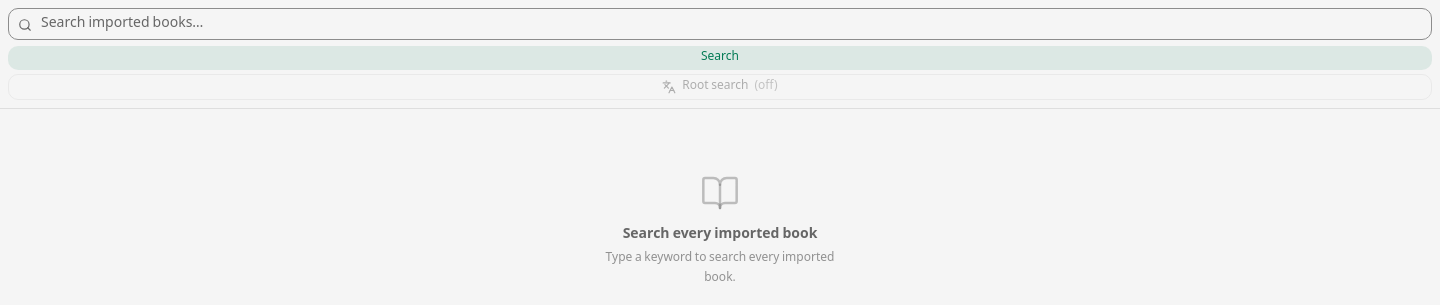
Test: SearchTab — on plain web (no window.electronAPI at all) › root search stays a no-op (empty results), never a crash, with no native S2.db
Step 1. Type "كتب" into the field with placeholder "Search imported books…" → (720, 24), box [8,8,1432,40]
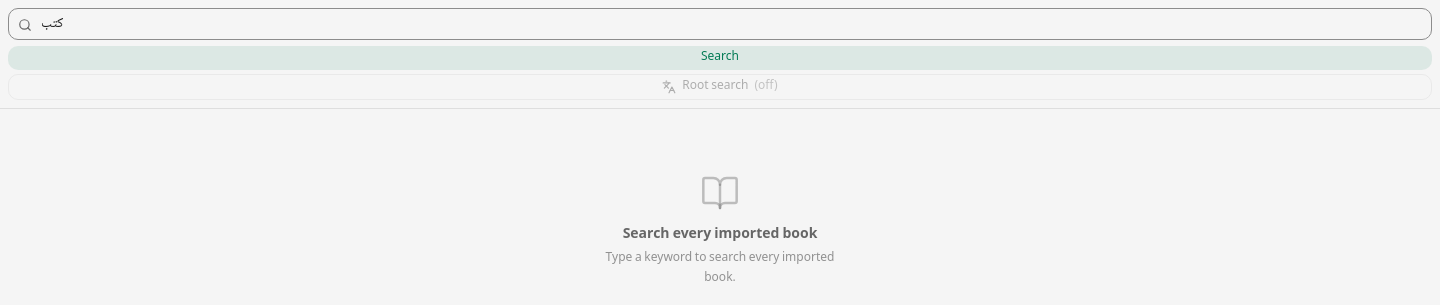
Step 2. Click the button "Root search (off)" → (720, 87), box [8,74,1432,100]
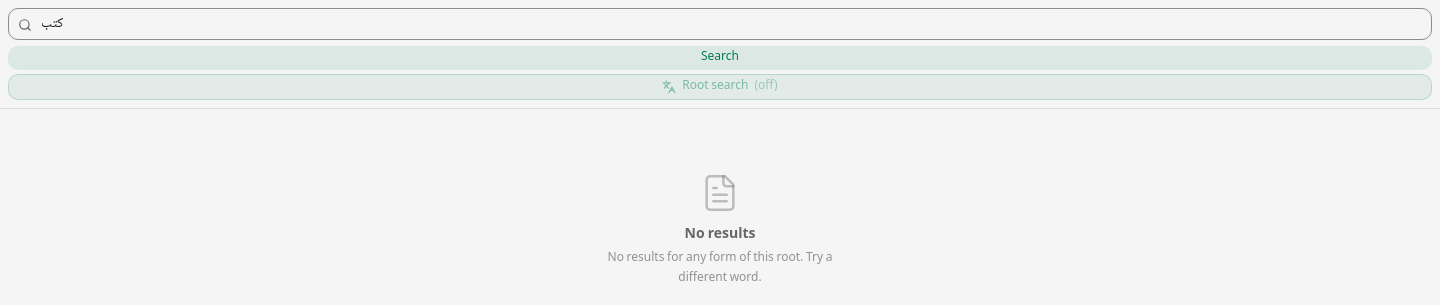
expect the text "No results for any form of this root. Try a different word." is shown: met, box [590,249,850,288]
